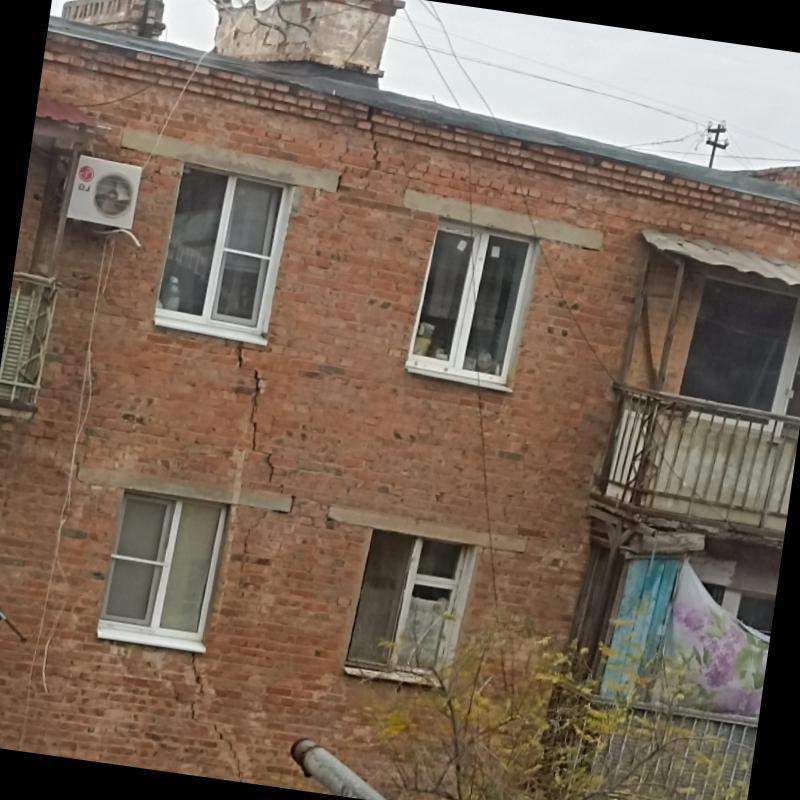crack: (154, 672, 244, 781), (241, 508, 269, 576), (250, 369, 269, 454), (366, 105, 381, 171), (191, 651, 206, 695), (237, 339, 256, 372), (265, 452, 275, 484)
